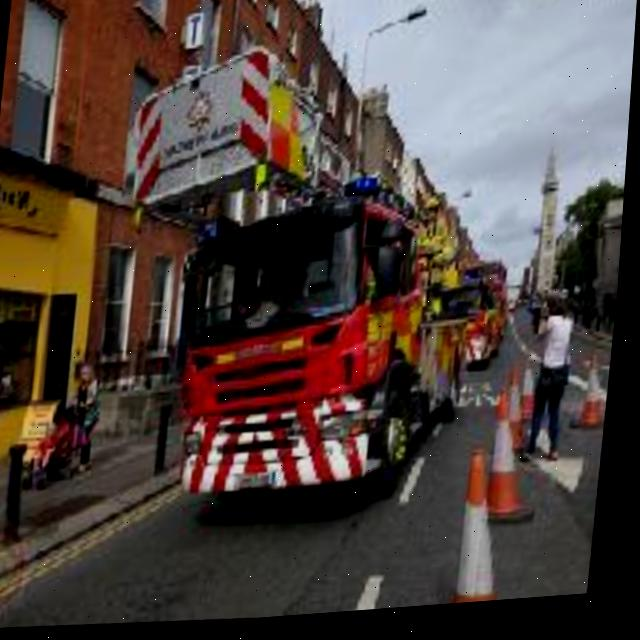emergency: (168, 167, 482, 527), (433, 264, 514, 385)
